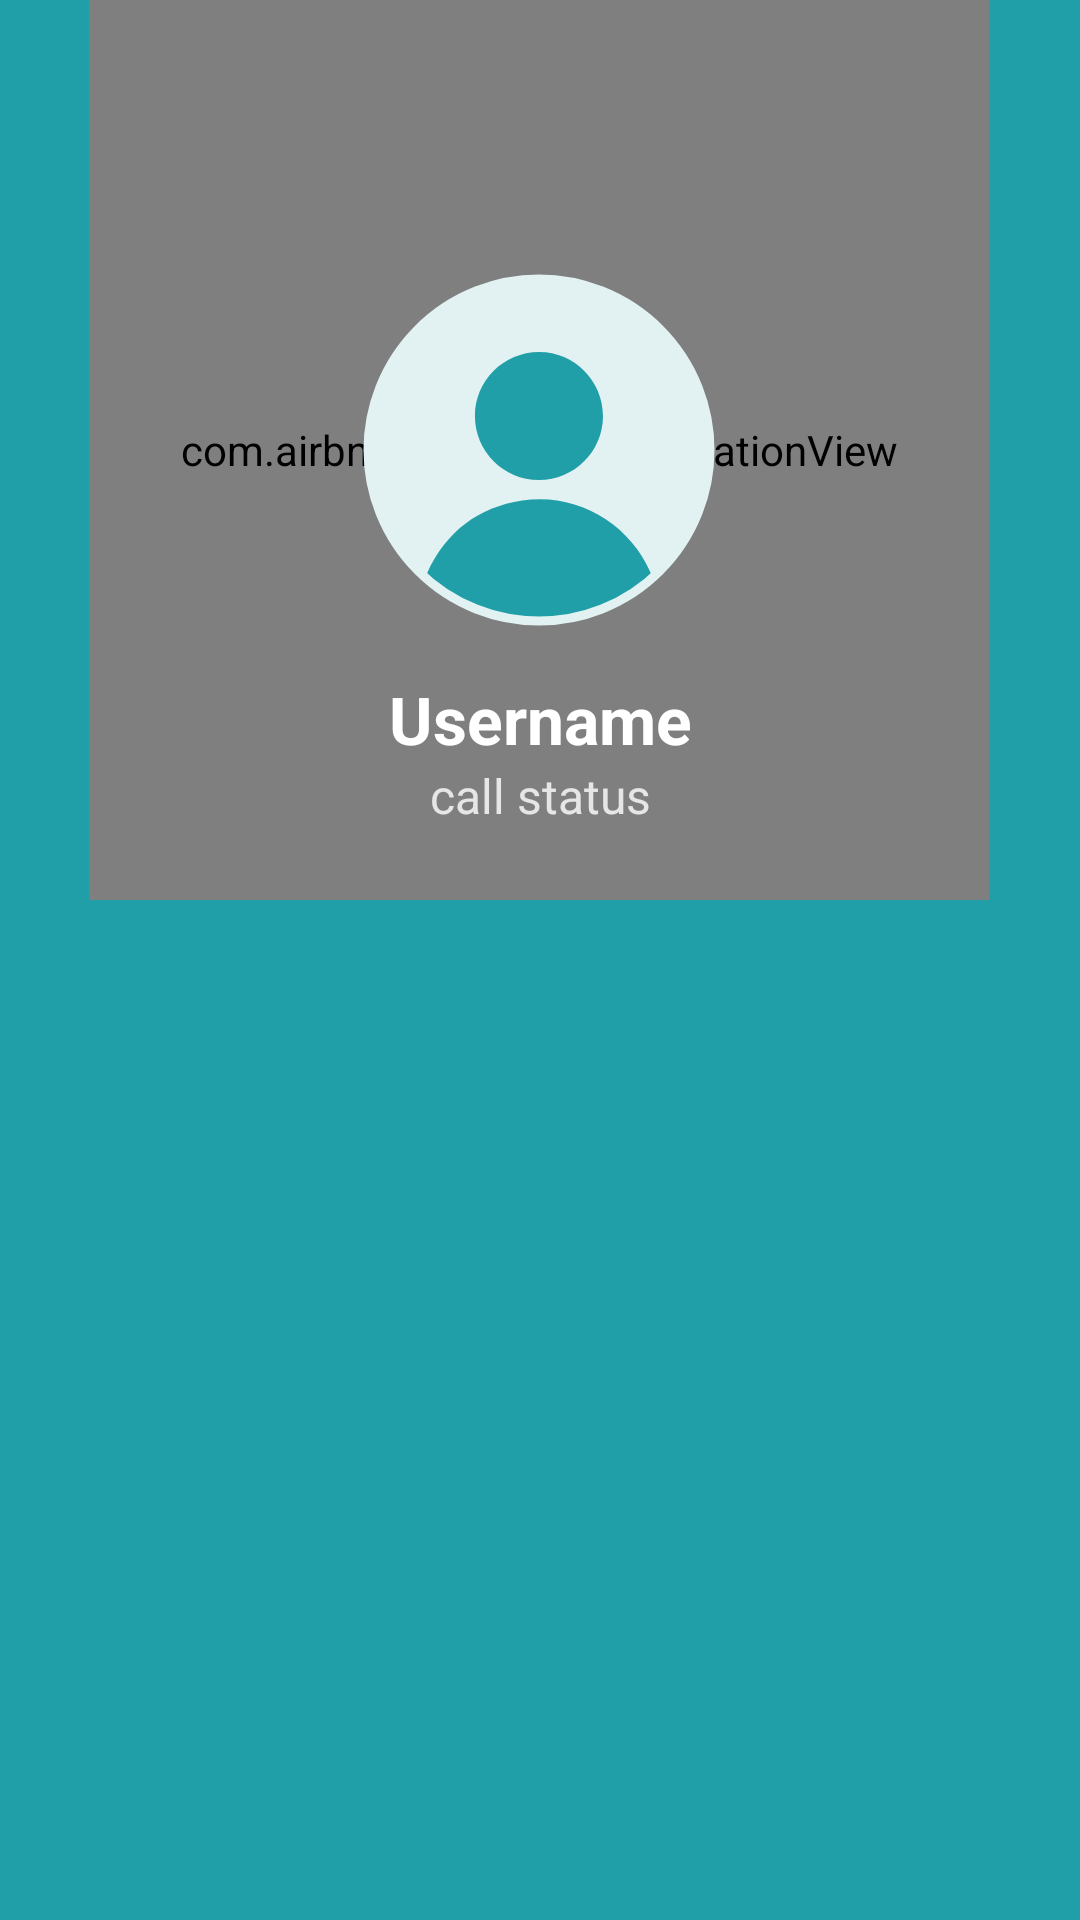

Icon click points for this 1080*1920 phone screenshot, format [x,y]:
enter profile: [539,450]
